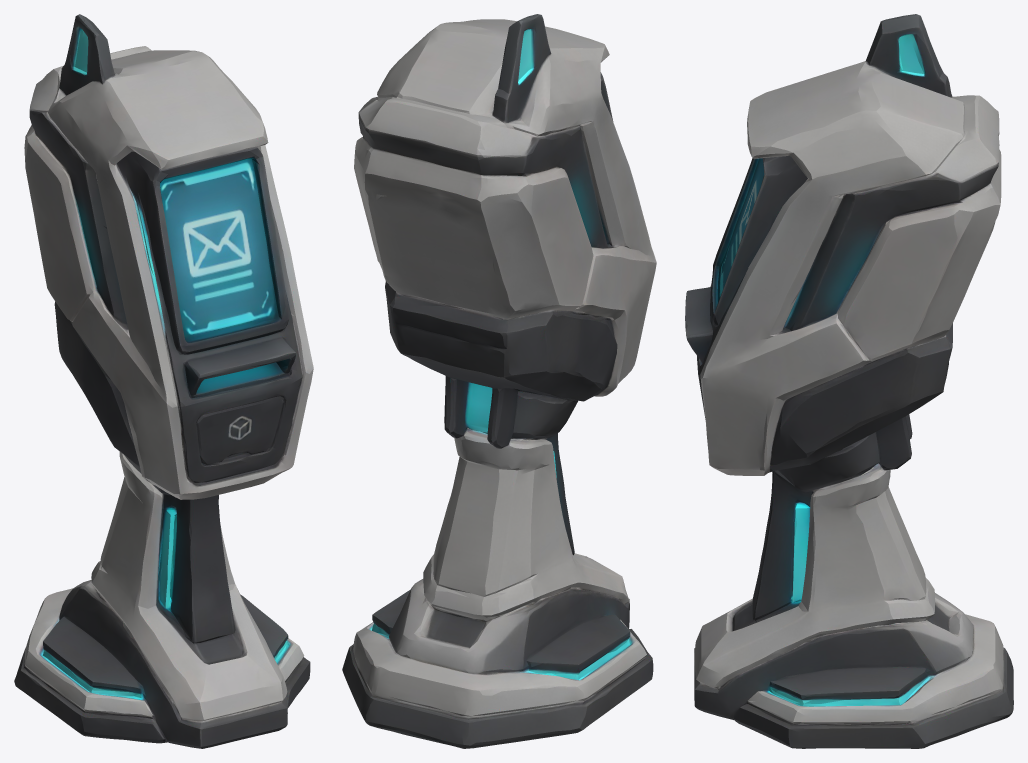
3 renders of one model, left to right at view 1: azimuth 30°, elevation 25°; view 2: azimuth 150°, elevation 25°; view 3: azimuth 270°, elevation 25°, orthographic. The views are drawn at different scales.
Parts seen in each view (by area): view 1: Mesh; view 2: Mesh; view 3: Mesh.
Boxes of the visible parts, x1,y1,x2,y2 form: Mesh: (14, 14, 313, 748); Mesh: (342, 14, 656, 748); Mesh: (685, 14, 1013, 748).
Size of the model in its own units: 0.6847 by 1.9 by 0.8629.
Materials: 1 (1 with a texture image).
